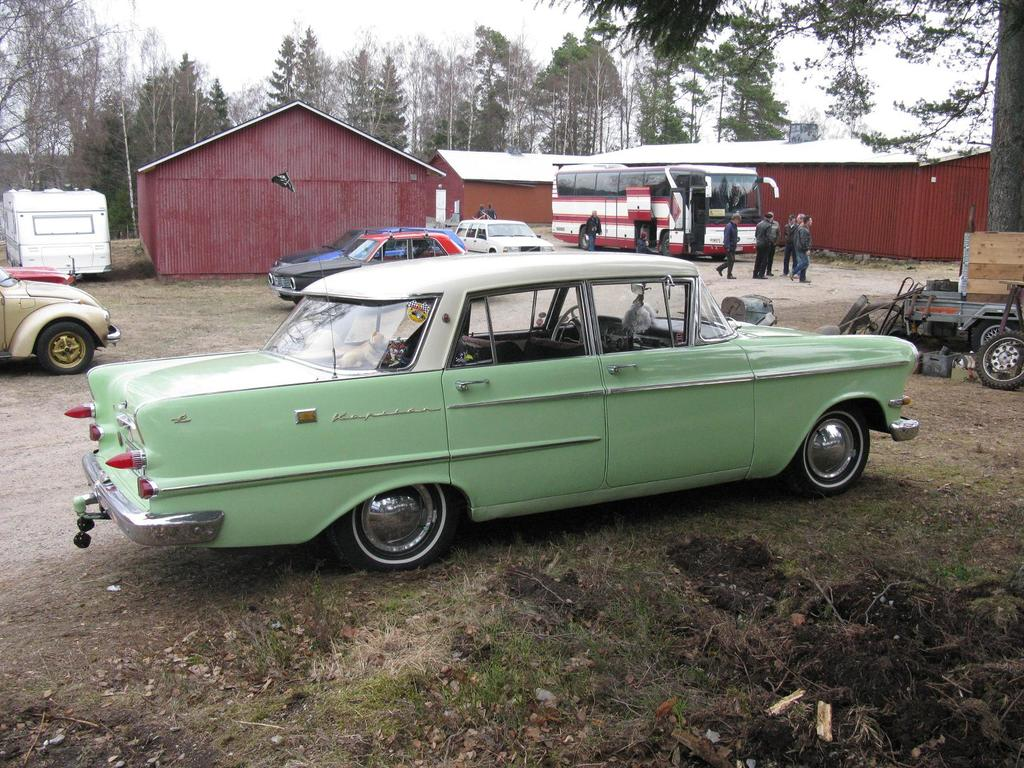Wheel: (330, 490, 461, 559), (792, 401, 874, 497), (36, 322, 94, 380), (977, 335, 1023, 389), (549, 303, 593, 346), (971, 314, 1017, 355), (656, 230, 682, 260), (578, 228, 594, 253), (712, 252, 732, 261)
